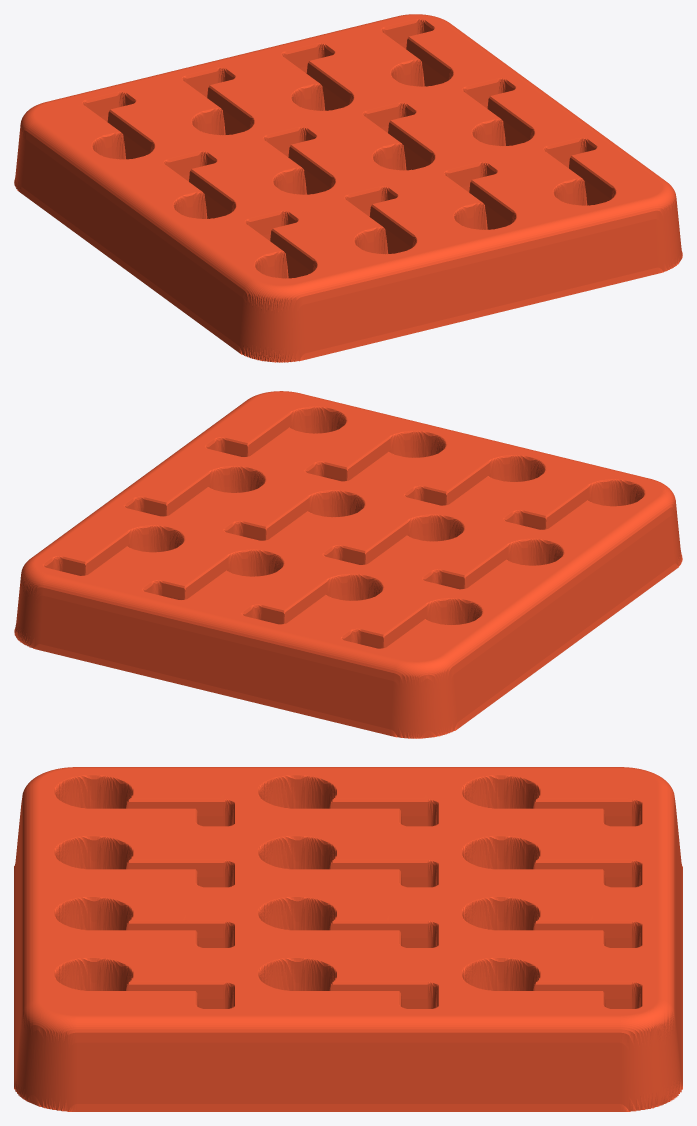
File: mold.glb
3 views of the same model, one above another, from view 1: azimuth 30°, elevation 25°; view 2: azimuth 150°, elevation 25°; view 3: azimuth 270°, elevation 25° (orthographic). The views are drawn at different scales.
Parts seen in each view (by area): view 1: geometry_0; view 2: geometry_0; view 3: geometry_0.
Part boxes in pixels (box(x1,y1,x2,y2)): geometry_0: box(14, 14, 682, 362); geometry_0: box(14, 391, 682, 738); geometry_0: box(14, 767, 682, 1111).
Bounding box in the file's own units: 0.0913 × 0.0136 × 0.0963.
